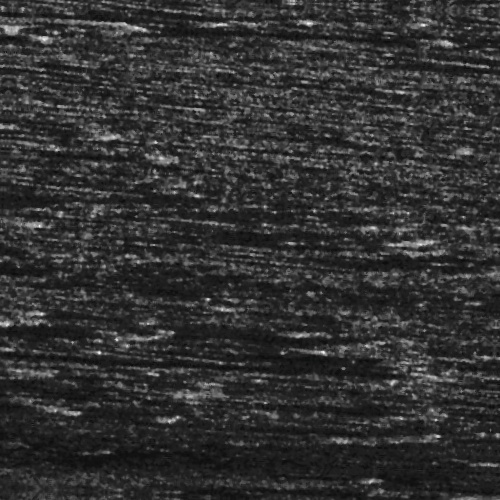object: (380, 359, 495, 372), (266, 340, 349, 349), (429, 483, 500, 492), (5, 310, 36, 327), (362, 467, 415, 472), (179, 380, 220, 385)
shadow: (49, 359, 437, 372), (170, 483, 487, 492), (149, 340, 308, 349), (408, 489, 500, 500), (118, 380, 199, 385), (308, 467, 388, 472), (0, 310, 20, 327)
